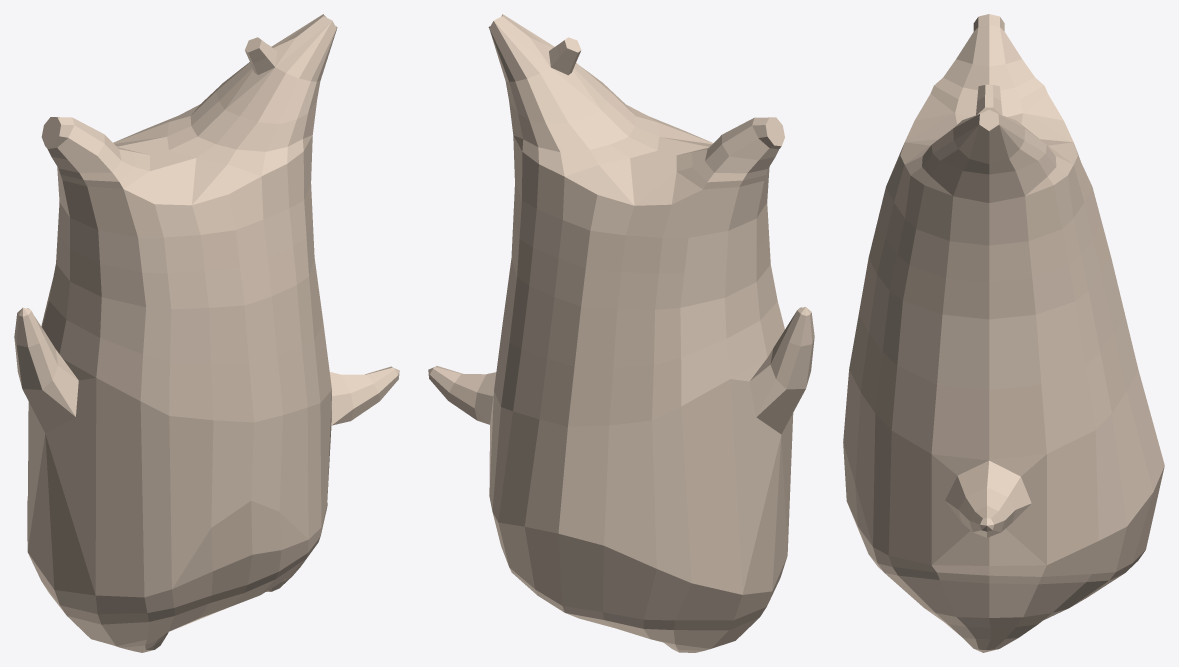
File: frame_0080.obj
3 renders of one model, left to right at view 1: azimuth 30°, elevation 25°; view 2: azimuth 150°, elevation 25°; view 3: azimuth 270°, elevation 25°, orthographic.
Parts seen in each view (by area): view 1: korok; view 2: korok; view 3: korok.
Part boxes in pixels (box(x1,y1,x2,y2)): korok: box(14, 14, 399, 652); korok: box(428, 14, 814, 652); korok: box(843, 14, 1164, 652).
Bounding box in the file's own units: 1.5 × 2.2 × 1.07.
